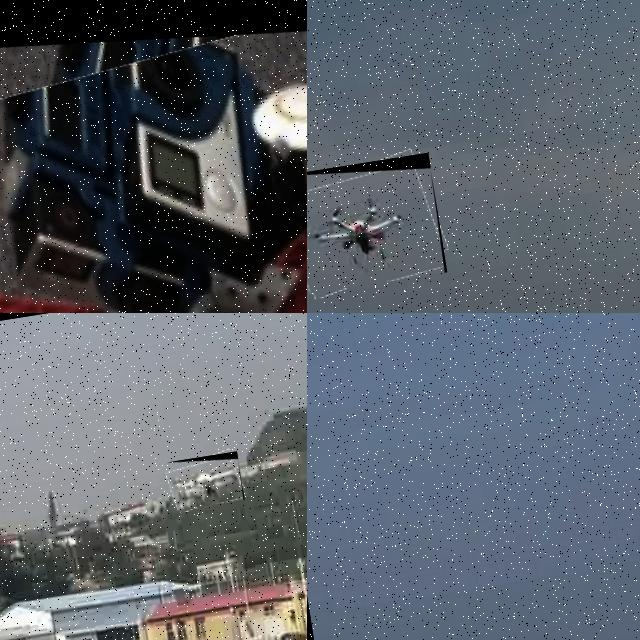drone: (0, 0, 307, 313), (307, 152, 447, 295), (166, 451, 245, 511)
